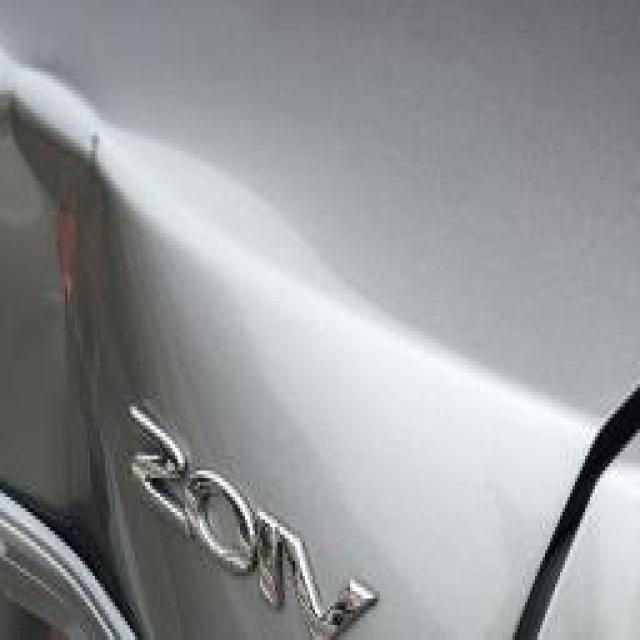Dickey: (8, 72, 210, 640)
